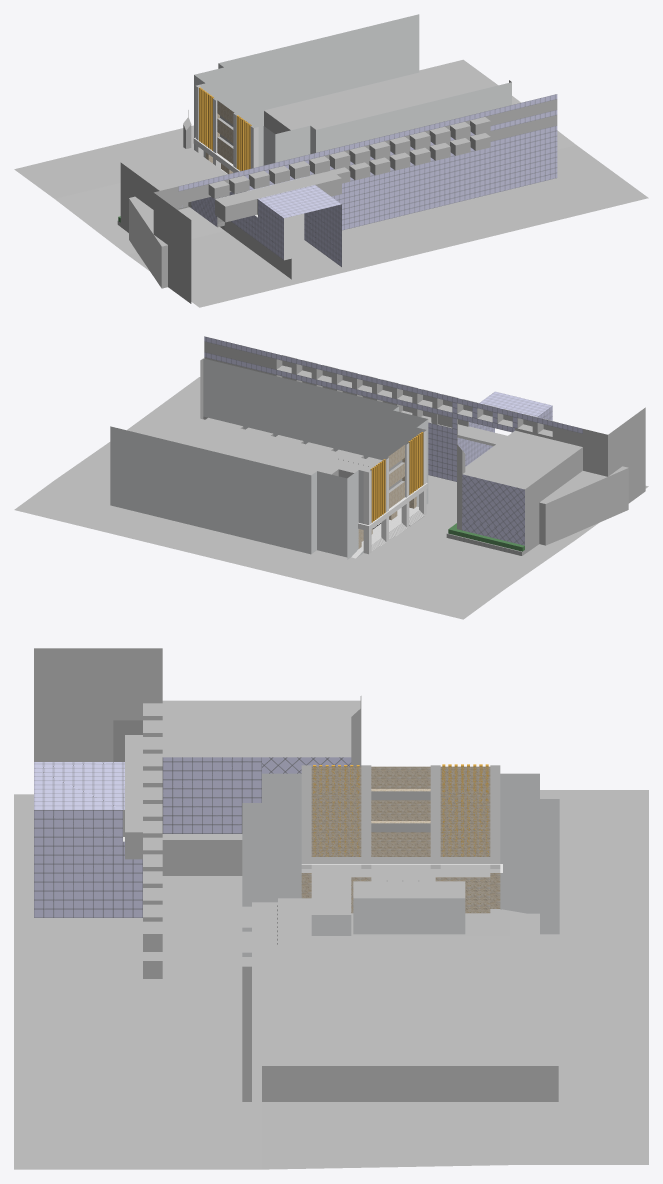
3 renders of one model, top to bottom at view 1: azimuth 30°, elevation 25°; view 2: azimuth 150°, elevation 25°; view 3: azimuth 270°, elevation 25°, orthographic. The views are drawn at different scales.
Parts seen in each view (by area): view 1: kanseikan__1_, Ground__1_, syudokan__1_; view 2: syudokan__1_, kanseikan__1_, Ground__1_; view 3: Ground__1_, syudokan__1_, kanseikan__1_.
Boxes of the visible parts, x1=… form: kanseikan__1_: x1=117, y1=94, x2=557, y2=303; Ground__1_: x1=14, y1=59, x2=648, y2=307; syudokan__1_: x1=193, y1=14, x2=511, y2=217; syudokan__1_: x1=110, y1=358, x2=428, y2=559; kanseikan__1_: x1=204, y1=336, x2=645, y2=555; Ground__1_: x1=14, y1=377, x2=648, y2=619; Ground__1_: x1=14, y1=790, x2=648, y2=1169; syudokan__1_: x1=242, y1=764, x2=559, y2=1101; kanseikan__1_: x1=34, y1=648, x2=361, y2=978.
Bounding box in the file's own units: 9125 × 1988 × 6400.
